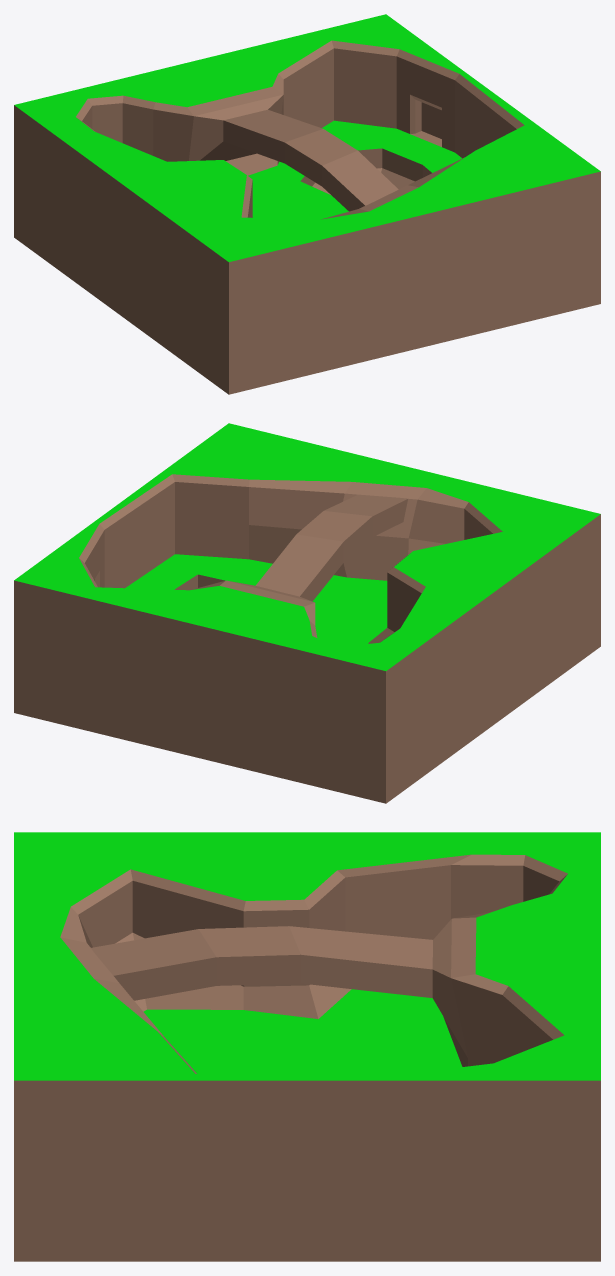
Rendered from Level.fbx.
3 renders of one model, top to bottom at view 1: azimuth 30°, elevation 25°; view 2: azimuth 150°, elevation 25°; view 3: azimuth 270°, elevation 25°, orthographic. The views are drawn at different scales.
Visible parts, largest first — view 1: Plane; view 2: Plane; view 3: Plane.
Part boxes in pixels (x1,y1,x2,y2): Plane: (14,14,600,394); Plane: (14,423,600,803); Plane: (14,832,600,1261).
Bounding box in the file's own units: 10000 × 3604 × 10000.
